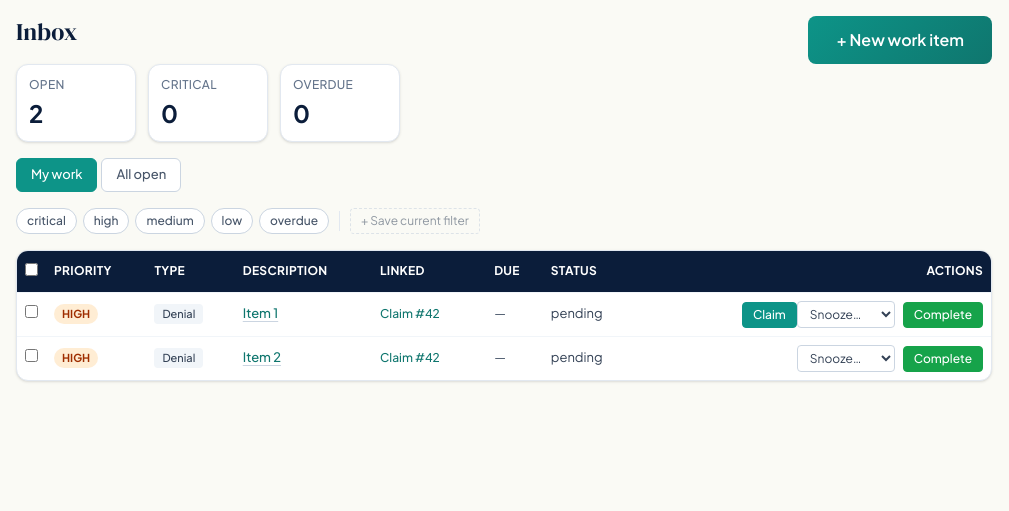
Test: InboxPage › bulk actions › reports partial failures in the error strip
Click the checkbox named "Select item 1". click: (32, 312)
box: 25,305 -> 38,318
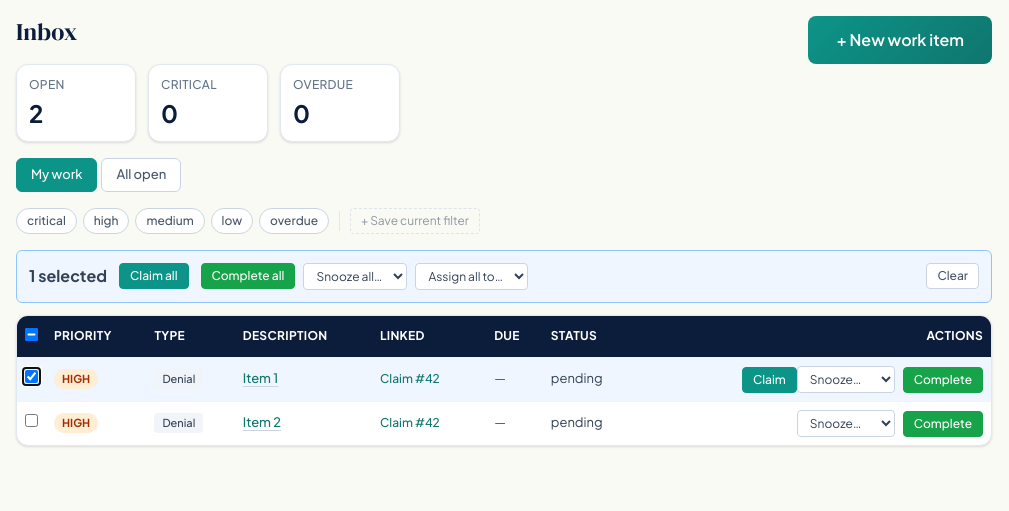
Click the checkbox named "Select item 2". click: (32, 421)
box: 25,414 -> 38,427
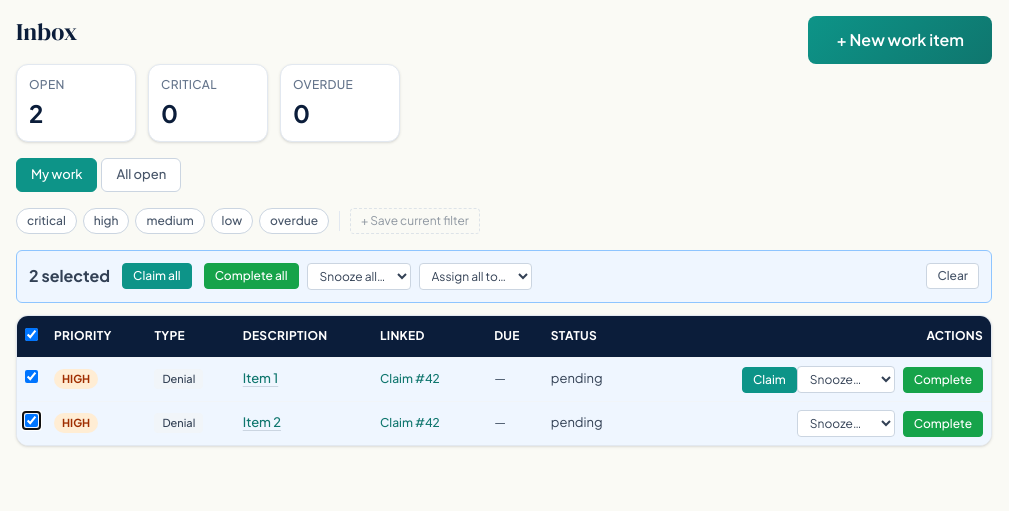
Click the button "Claim all". click: (157, 276)
box: 122,263 -> 192,289
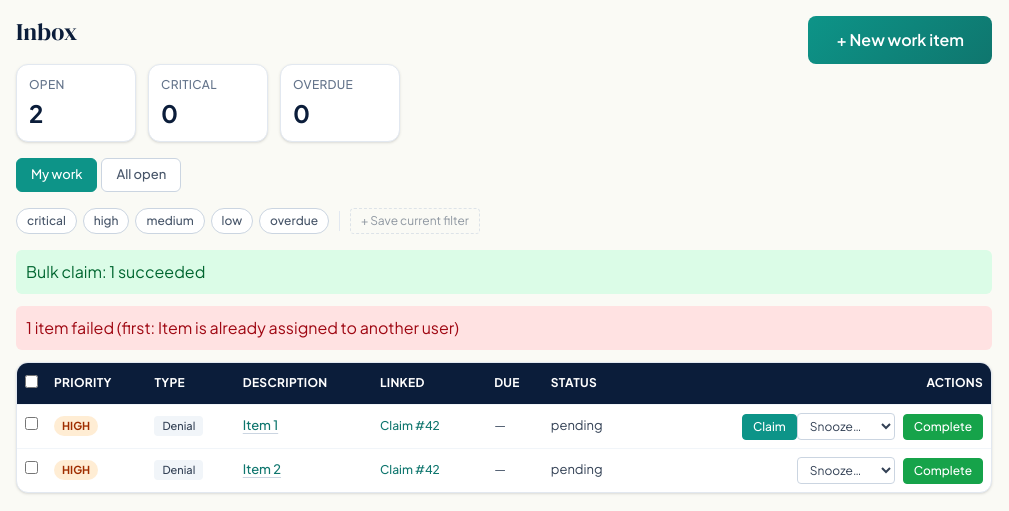
Now the text "1 item failed (first: Item is already assigned to another user)" is shown, box 16,306 -> 992,350
